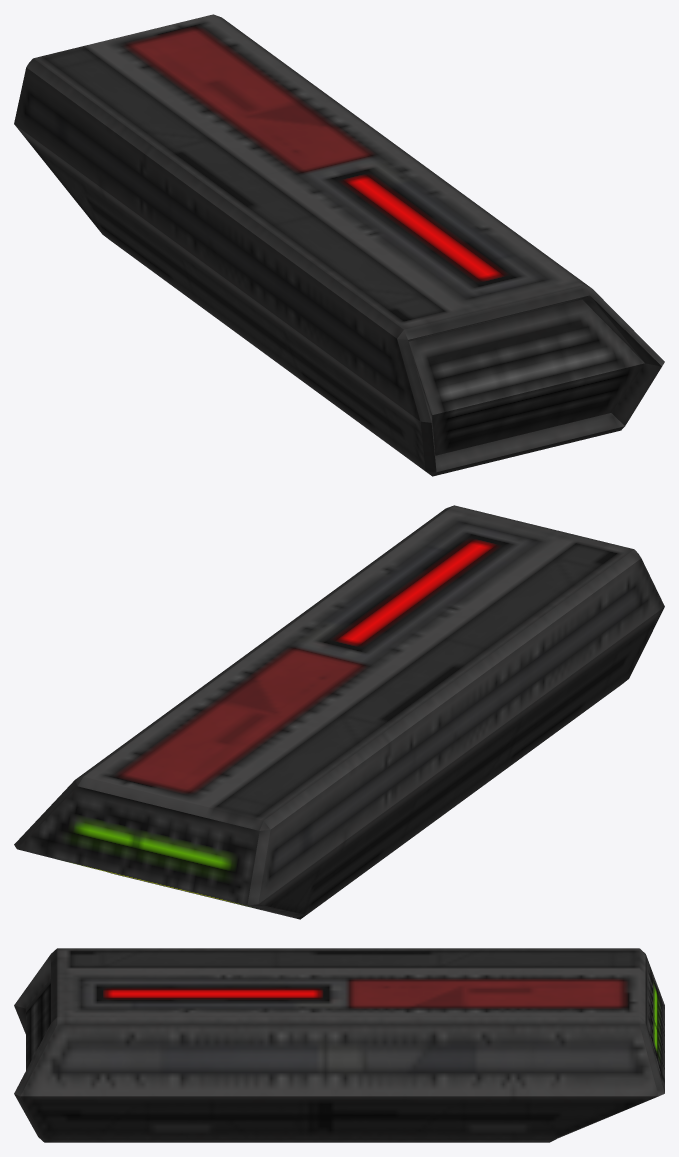
The model's file is BFP_LargeEngine01_Left.FBX.
The picture shows the model from 3 angles, top to bottom: view 1: azimuth 30°, elevation 25°; view 2: azimuth 150°, elevation 25°; view 3: azimuth 270°, elevation 25°; orthographic projection. The views are drawn at different scales.
Visible parts, largest first — view 1: BFP_LargeEngine01_Left; view 2: BFP_LargeEngine01_Left; view 3: BFP_LargeEngine01_Left.
Boxes of the visible parts, box(x1,y1,x2,y2) form: BFP_LargeEngine01_Left: box(14, 14, 664, 476); BFP_LargeEngine01_Left: box(14, 505, 664, 919); BFP_LargeEngine01_Left: box(14, 948, 664, 1142).
Bounding box in the file's own units: 77.67 × 44.29 × 228.
Materials: 1 (1 with a texture image).
